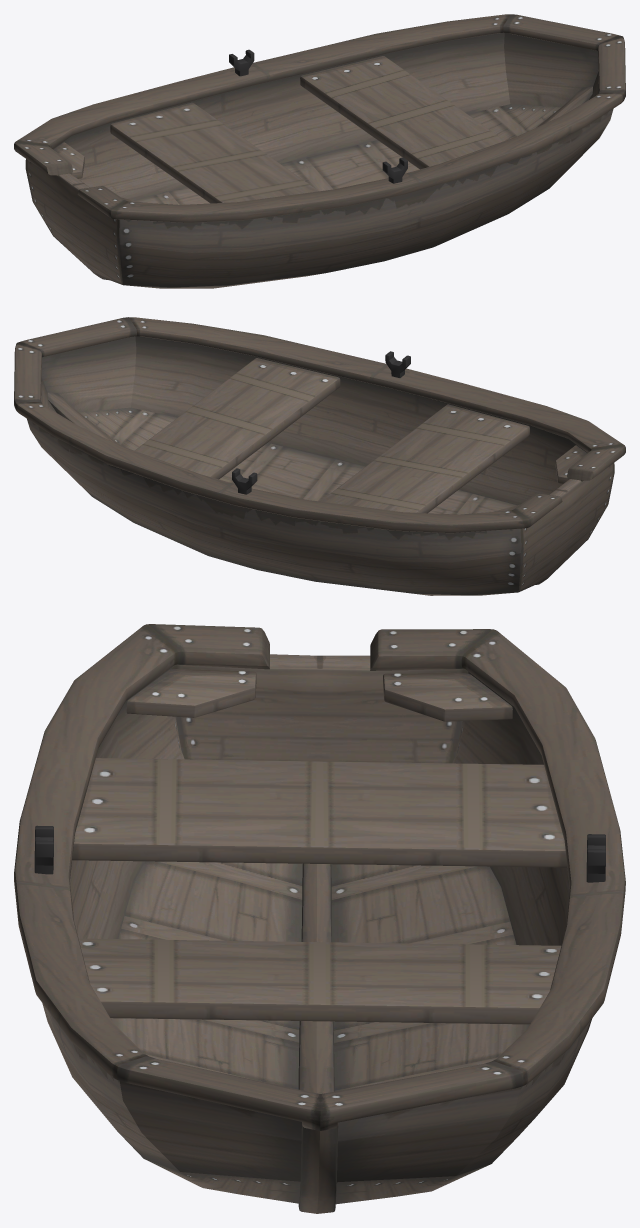
The model's file is row boat.glb.
3 views of the same model, one above another, from view 1: azimuth 30°, elevation 25°; view 2: azimuth 150°, elevation 25°; view 3: azimuth 270°, elevation 25° (orthographic). The views are drawn at different scales.
Visible parts, largest first — view 1: Rowboat; view 2: Rowboat; view 3: Rowboat.
Boxes of the visible parts, <box> form: Rowboat: <box>14,14,625,288</box>; Rowboat: <box>14,317,625,595</box>; Rowboat: <box>14,624,625,1213</box>.
Bounding box in the file's own units: 4.35 × 1.05 × 2.28.
Materials: 1 (1 with a texture image).
